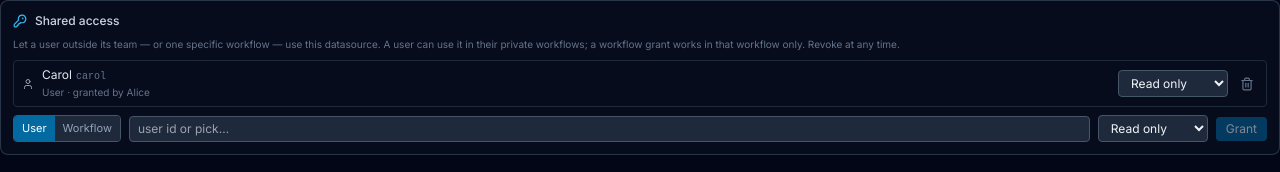
ResourceGrants on a datasource › lists grants and revokes one
Expected: the text "Carol" is shown, [42,67,72,82]
Click the button named "Revoke access for Carol".
click(1247, 84)  # box [1236,72,1258,94]
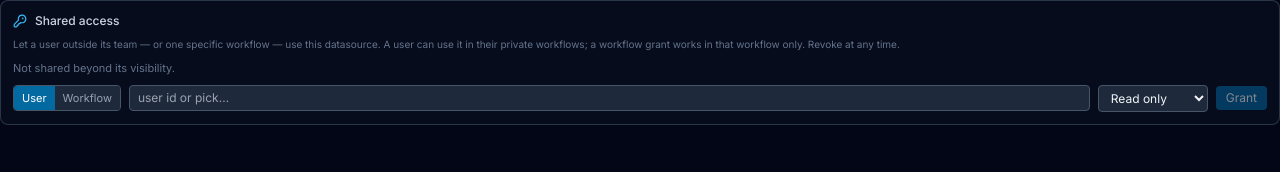
Result: the text "Not shared beyond its visibility." is shown at [13,61,175,75]
